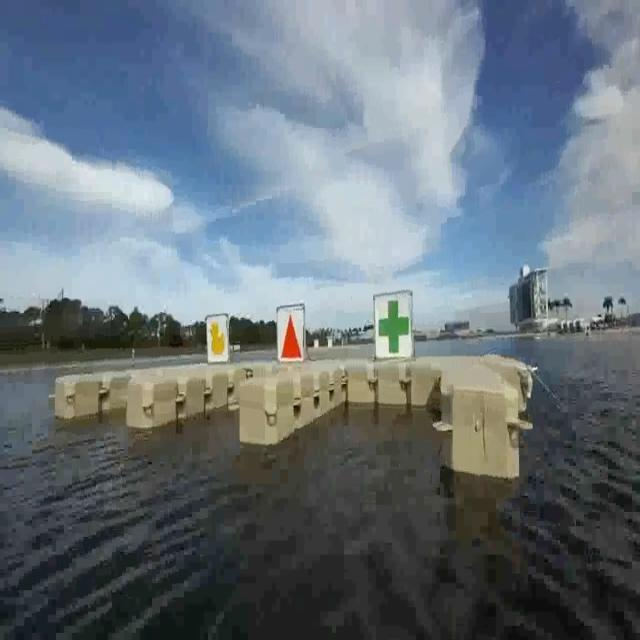blue-cross: (372, 292, 413, 362)
red-dot: (276, 306, 307, 368)
yellow-duck: (201, 311, 229, 362)
